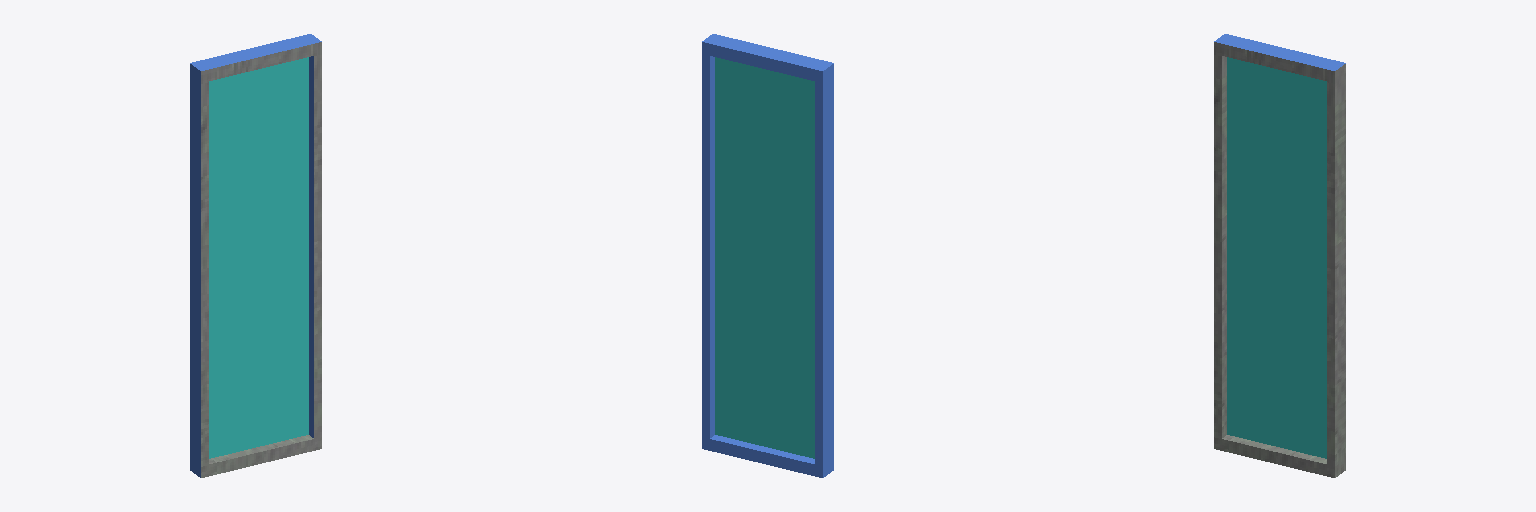
3 views of the same model, side by side, from view 1: azimuth 30°, elevation 25°; view 2: azimuth 150°, elevation 25°; view 3: azimuth 330°, elevation 25° (orthographic).
Visible parts, largest first — view 1: cristal2:Mesh7Group5Window_Casement_Alum_17x36_1Group1Model; view 2: cristal2:Mesh7Group5Window_Casement_Alum_17x36_1Group1Model; view 3: cristal2:Mesh7Group5Window_Casement_Alum_17x36_1Group1Model.
Part boxes in pixels (bbox=[...]): cristal2:Mesh7Group5Window_Casement_Alum_17x36_1Group1Model: bbox=[190, 34, 321, 477]; cristal2:Mesh7Group5Window_Casement_Alum_17x36_1Group1Model: bbox=[702, 34, 833, 477]; cristal2:Mesh7Group5Window_Casement_Alum_17x36_1Group1Model: bbox=[1214, 34, 1345, 477].
Size of the model in its own units: 0.435 by 1.4 by 0.0701.
Materials: 3 (1 with a texture image).